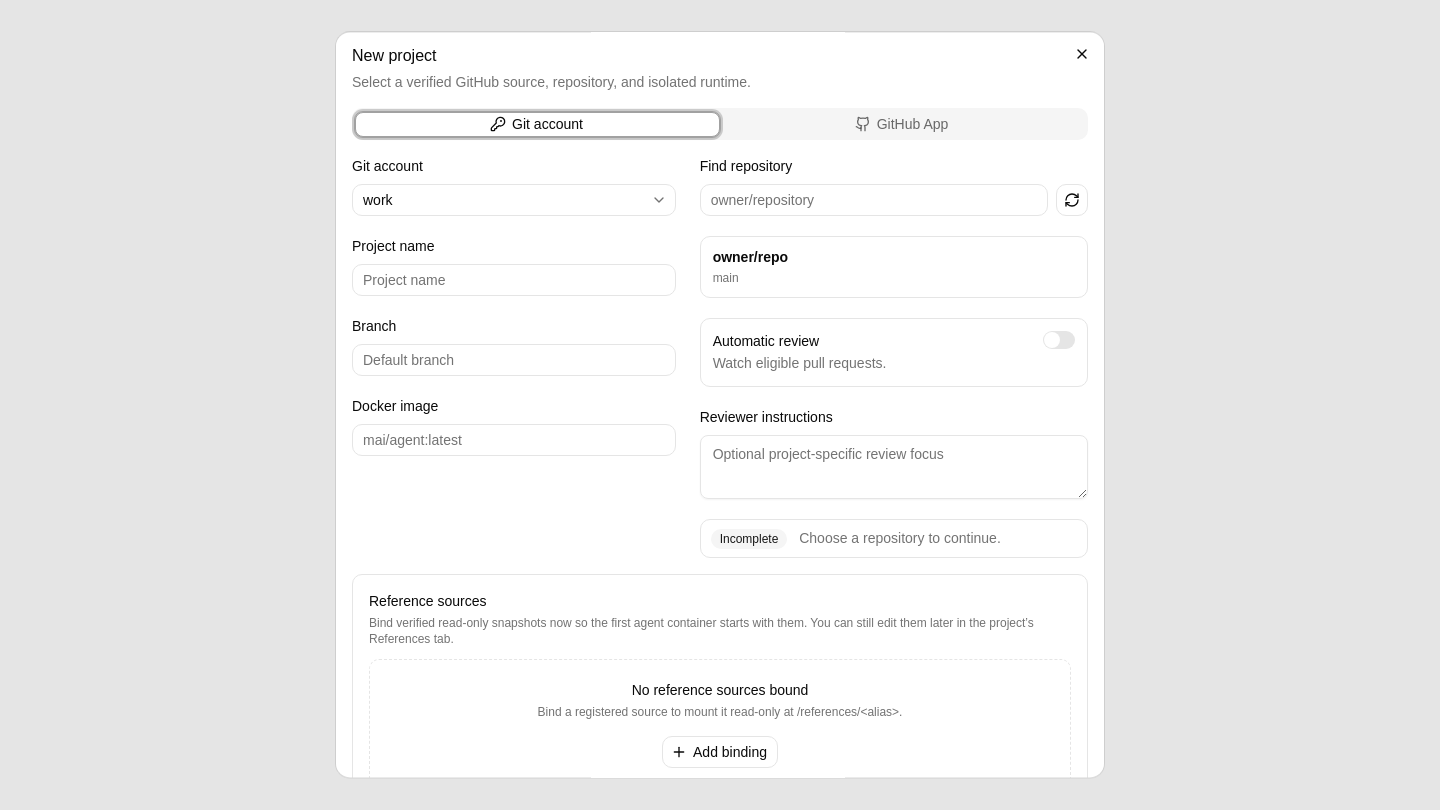
Test case: create project dialog › blocks creation while a binding is invalid and sends an empty binding list otherwise
Click the button "owner/repo main" at (750, 257), box [701, 237, 1087, 297]
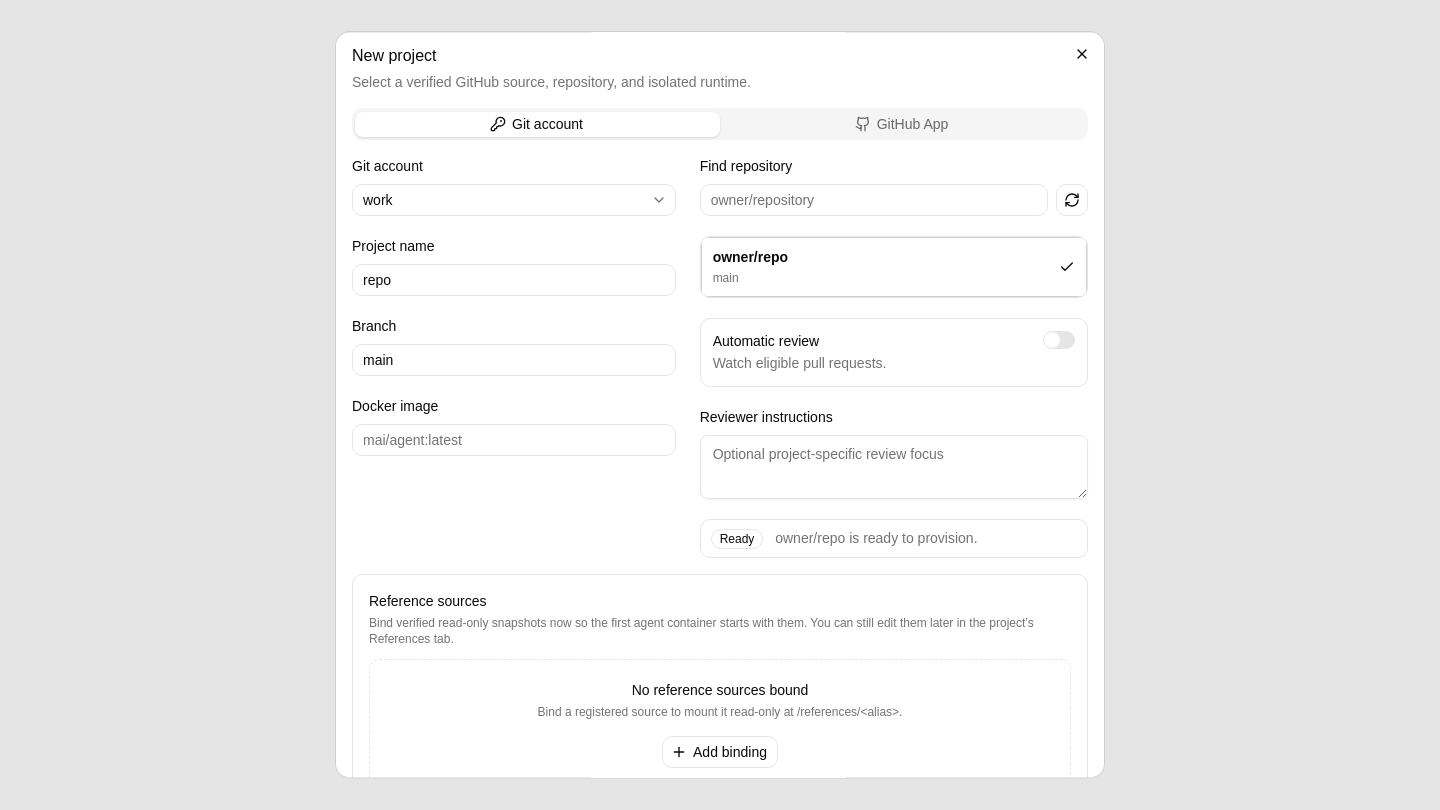
Click the button "Add binding" at (720, 752), box [662, 736, 778, 768]
(page scrolled)
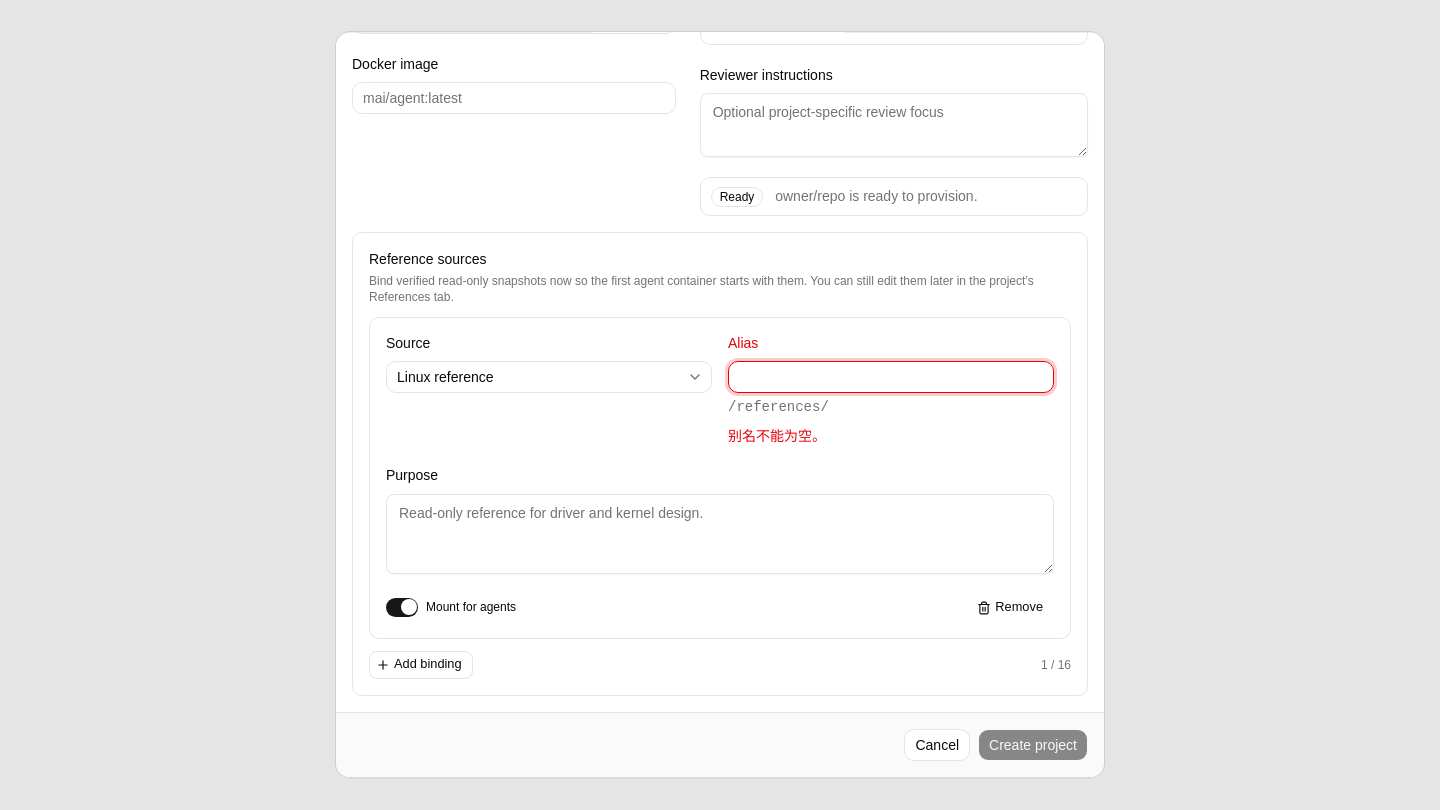
Result: the text "别名不能为空。" is shown at [728, 429, 826, 445]
Result: the button "Create project" is disabled at [978, 729, 1088, 761]
